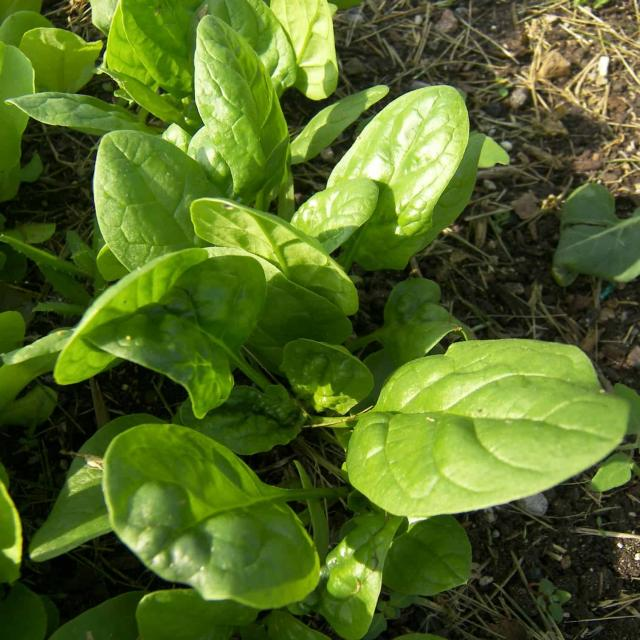spinach: (365, 342, 621, 513), (115, 423, 314, 605), (159, 264, 257, 404), (194, 20, 287, 146), (374, 85, 464, 214), (94, 136, 182, 248), (303, 180, 379, 241), (18, 93, 122, 131), (33, 29, 99, 88)
